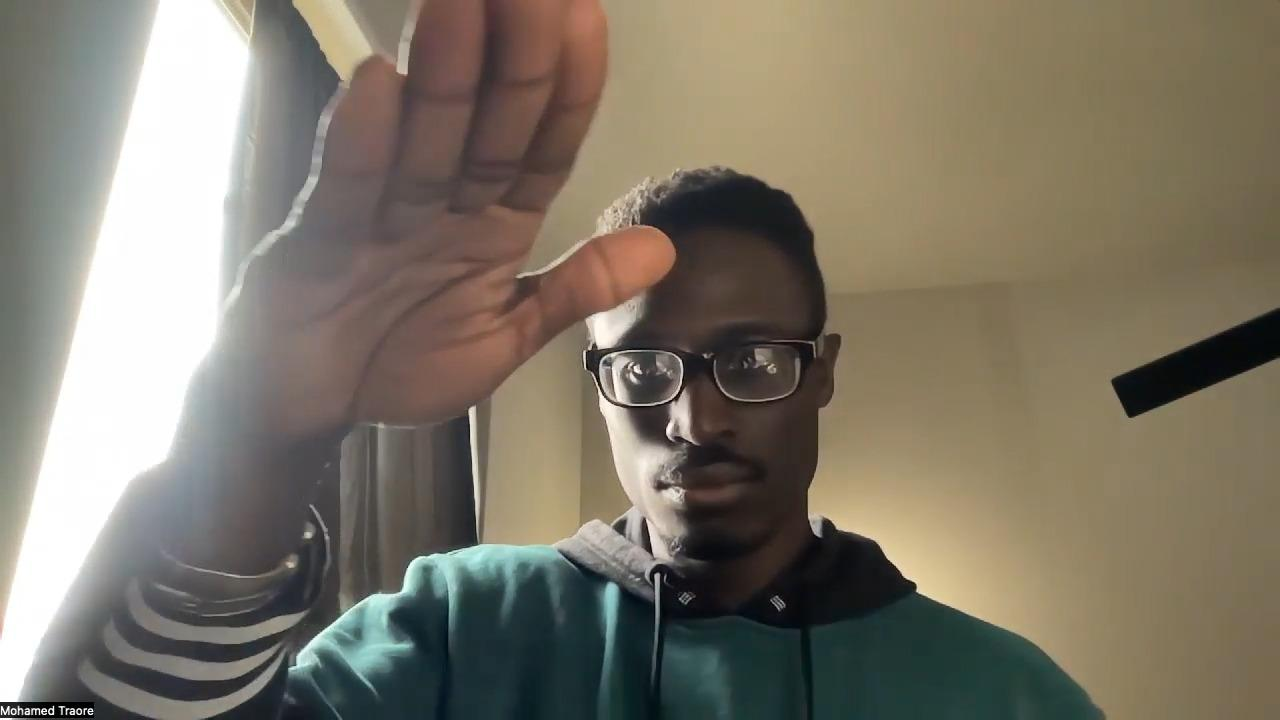Paper: (210, 0, 678, 439)
